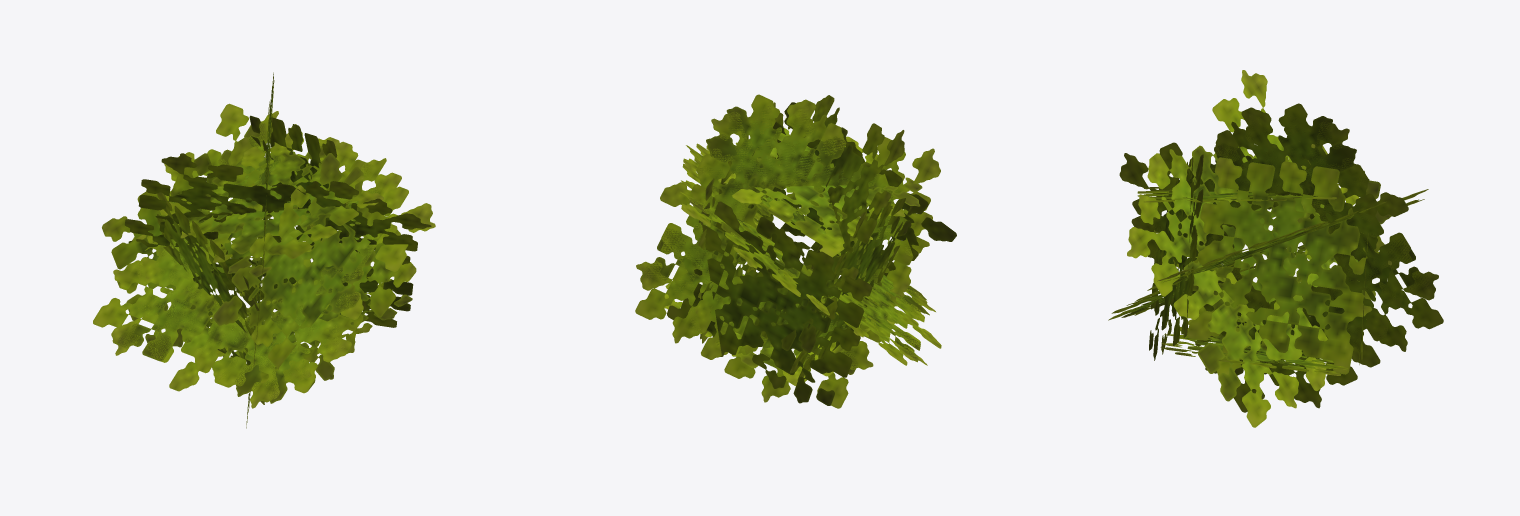
The model's file is linden_leaves_yellowish_5.obj.
3 views of the same model, side by side, from view 1: azimuth 30°, elevation 25°; view 2: azimuth 150°, elevation 25°; view 3: azimuth 270°, elevation 25° (orthographic). The views are drawn at different scales.
Visible parts, largest first — view 1: east, bottom, west, north, top, south; view 2: south, top, east, west, north, bottom; view 3: west, south, east, bottom, north.
Part boxes in pixels (<box>): east: <box>93,103,435,408</box>; bottom: <box>213,153,416,391</box>; west: <box>124,115,431,327</box>; north: <box>159,133,383,277</box>; top: <box>102,137,281,347</box>; south: <box>216,72,412,428</box>; south: <box>635,94,940,408</box>; top: <box>667,201,872,405</box>; east: <box>680,143,941,380</box>; west: <box>698,95,904,352</box>; north: <box>718,118,922,257</box>; bottom: <box>765,102,956,278</box>; west: <box>1127,70,1391,427</box>; south: <box>1119,103,1443,412</box>; east: <box>1108,144,1428,375</box>; bottom: <box>1149,154,1203,360</box>; north: <box>1137,184,1338,202</box>.
Size of the model in its own units: 2.27 by 2.25 by 1.98.
